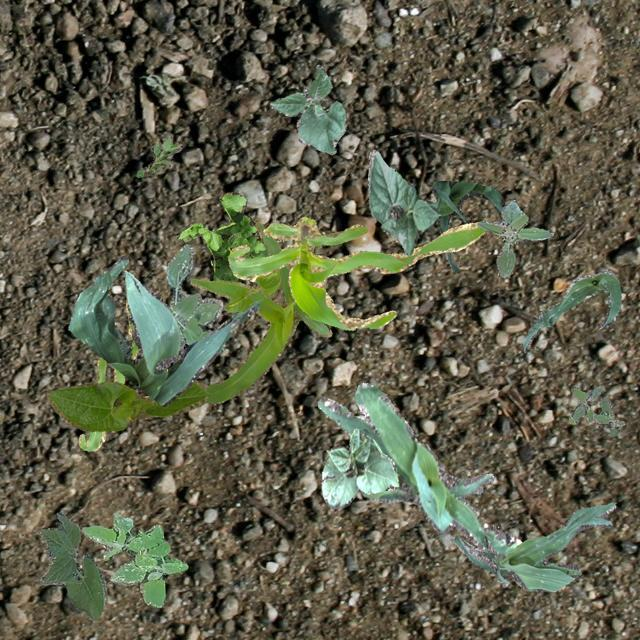crop: (316, 382, 520, 558), (226, 216, 484, 330), (68, 255, 258, 406), (190, 220, 330, 402), (450, 502, 614, 590), (44, 380, 210, 430), (522, 270, 620, 350), (366, 148, 439, 254), (77, 318, 136, 449), (424, 180, 504, 272), (39, 512, 104, 620), (268, 64, 344, 154), (320, 428, 398, 508), (223, 268, 280, 312)
weed: (80, 512, 186, 606), (178, 190, 266, 282), (164, 244, 223, 352), (477, 198, 552, 276), (568, 384, 624, 434), (136, 134, 180, 177)
